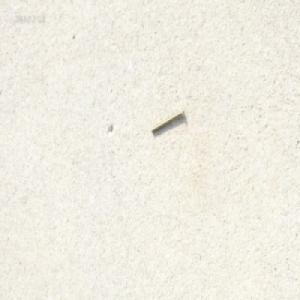Bolt: (150, 105, 184, 134)
